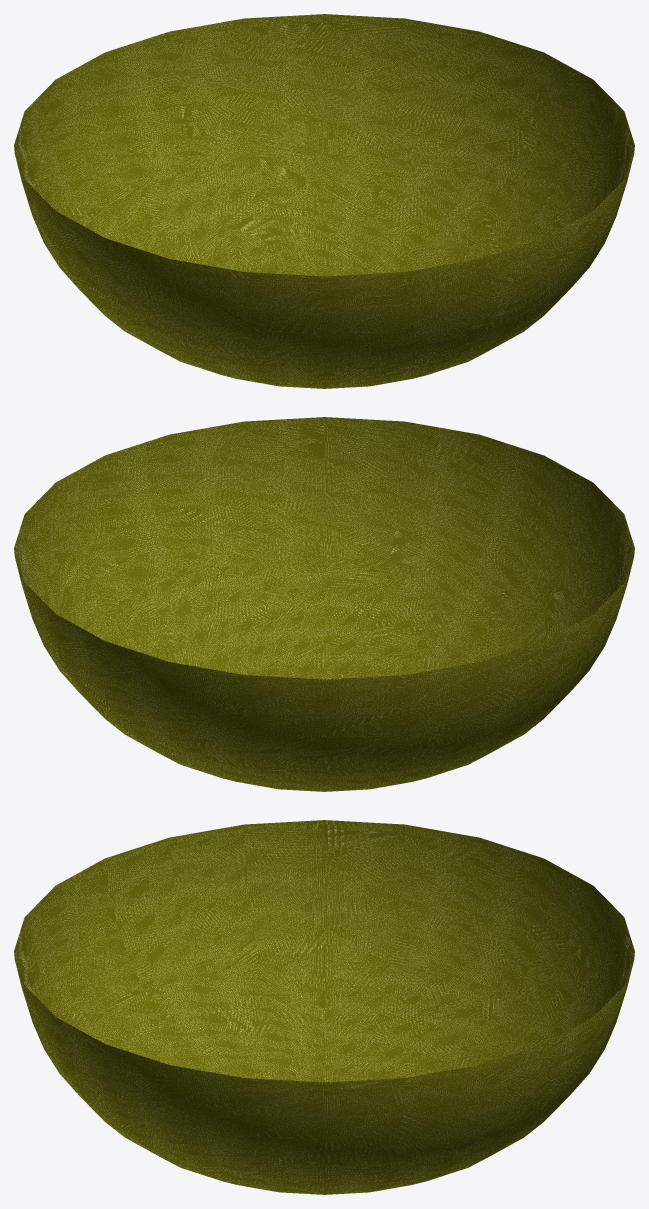
The picture shows the model from 3 angles, top to bottom: view 1: azimuth 30°, elevation 25°; view 2: azimuth 150°, elevation 25°; view 3: azimuth 270°, elevation 25°; orthographic projection.
Visible parts, largest first — view 1: SketchUp; view 2: SketchUp; view 3: SketchUp.
Part boxes in pixels (<box>): SketchUp: <box>14,14,634,388</box>; SketchUp: <box>14,417,634,791</box>; SketchUp: <box>14,820,634,1194</box>.
Bounding box in the file's own units: 6.62 × 6.62 × 2.22.
